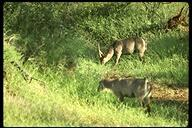antelope: (96, 76, 156, 114), (95, 36, 148, 70)
grass: (6, 27, 94, 126), (159, 33, 189, 87)
